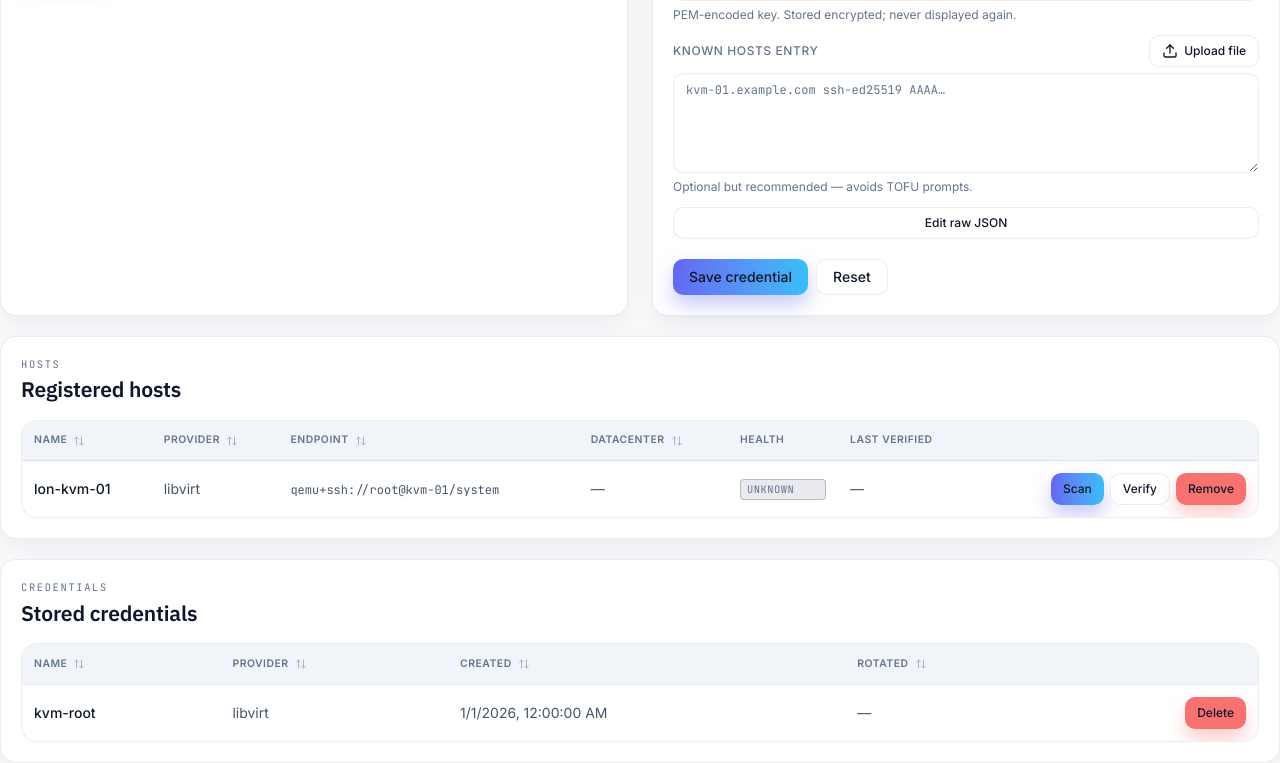
Test: Hypervisors › requires modal confirmation before removing a host and keeps failed removal visible
The image size is (1280, 763).
(page scrolled)
Expected: the text "lon-kvm-01" is shown, [34,480,110,497]
Click the button with aria-label "Remove hypervisor host lon-kvm-01". click: (1211, 489)
box: [1176,473,1246,505]
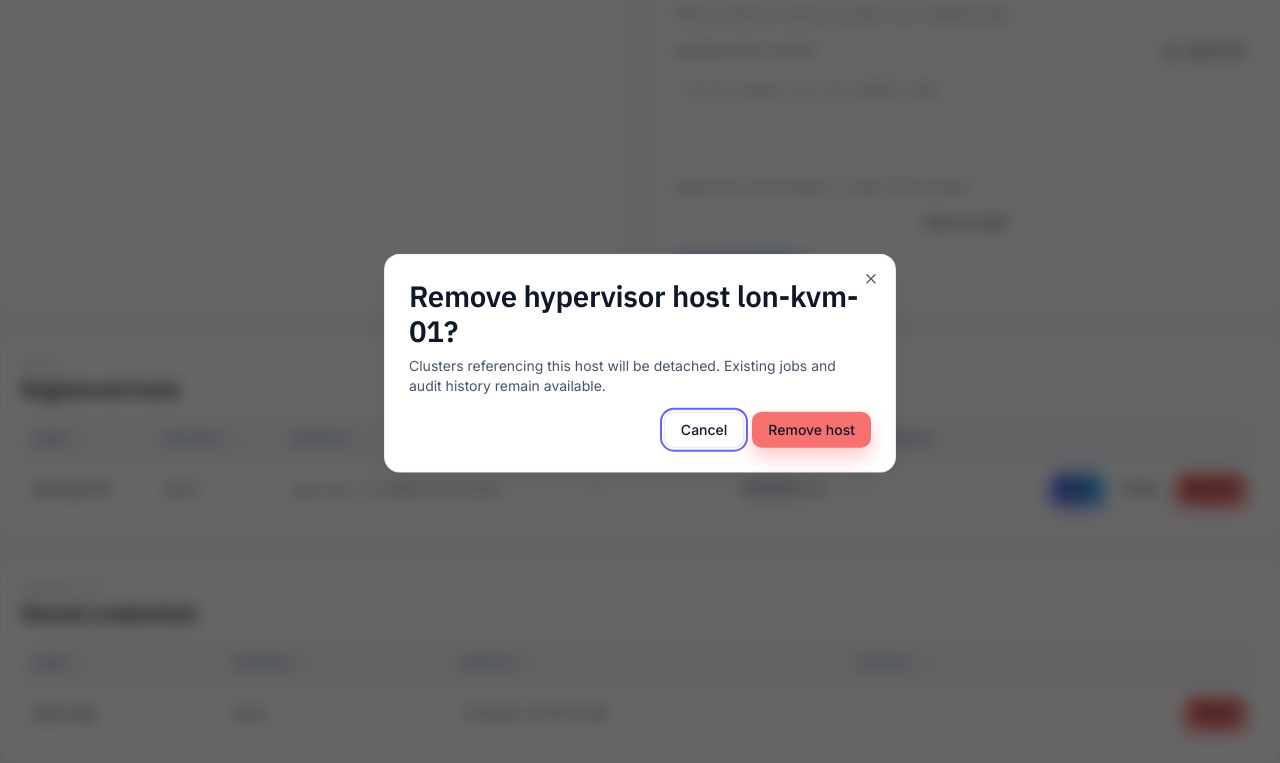
Click the button "Remove host". click: (812, 429)
box: [752,411,871,447]
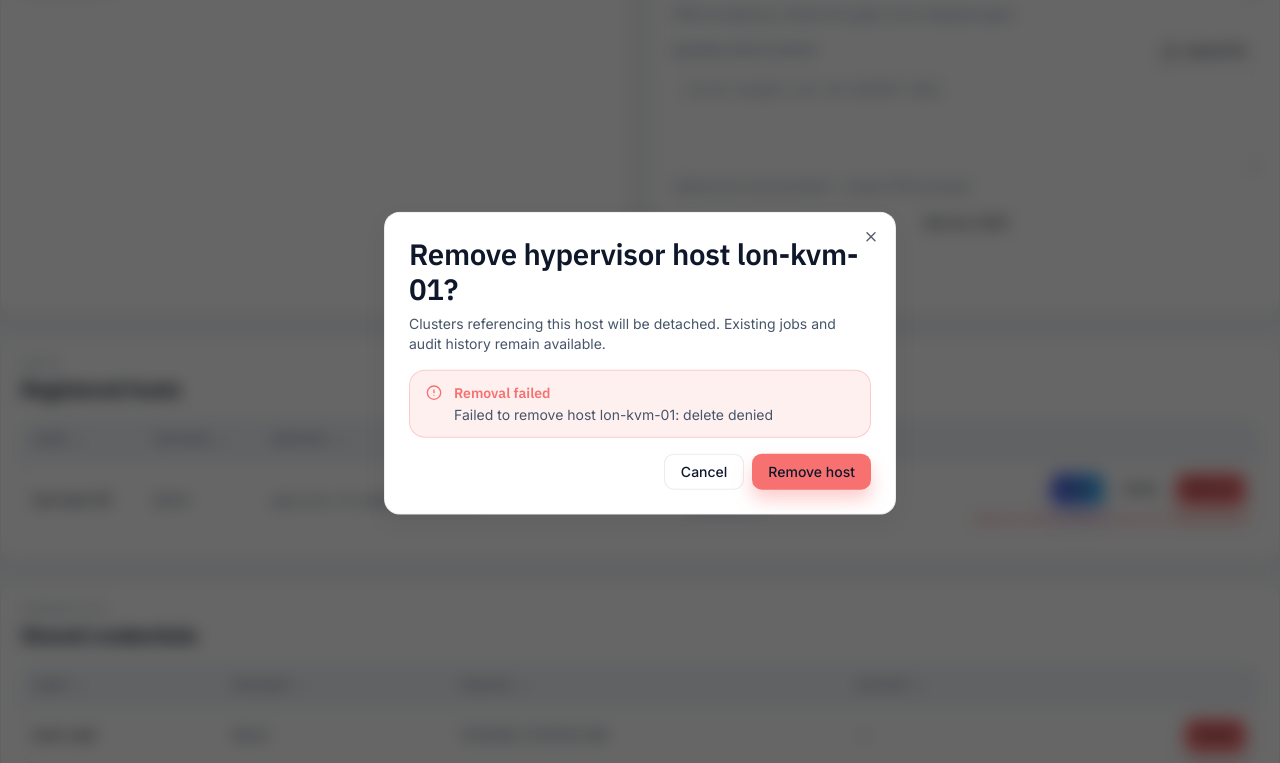
Now the dialog "Remove hypervisor host lon-kvm-01" is shown, box [384,212,896,514]
Now the text "Removal failed" is shown, box [454,383,550,401]
